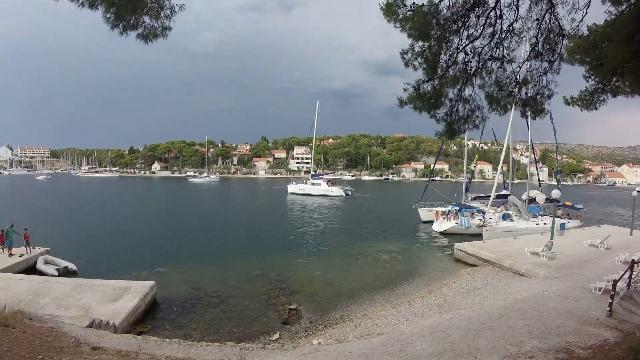Sailboat: (282, 172, 360, 200), (184, 171, 222, 183), (33, 170, 53, 180)
